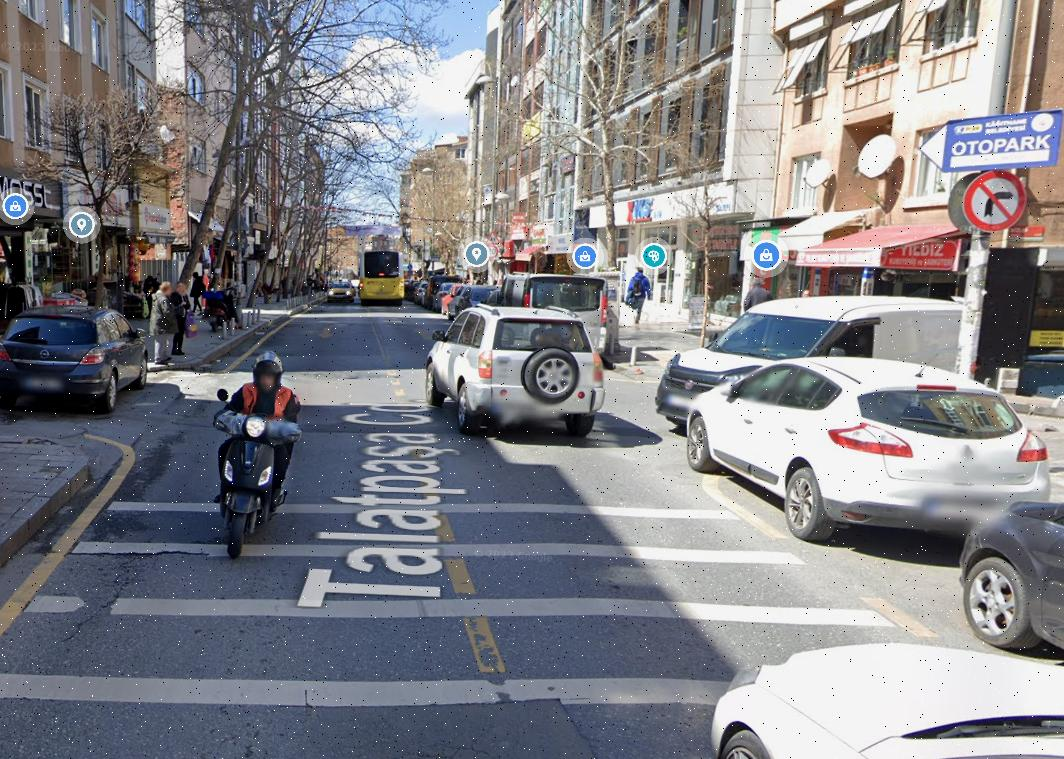rightturnsareforbidden: (968, 170, 1025, 226)
